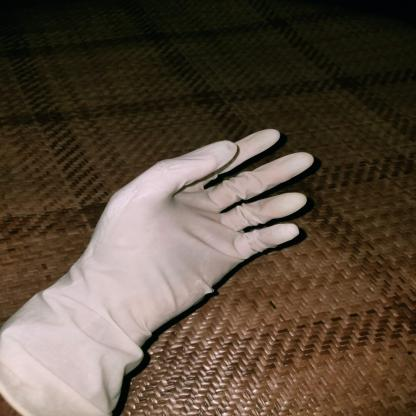gloved_hand: (0, 125, 315, 414)
